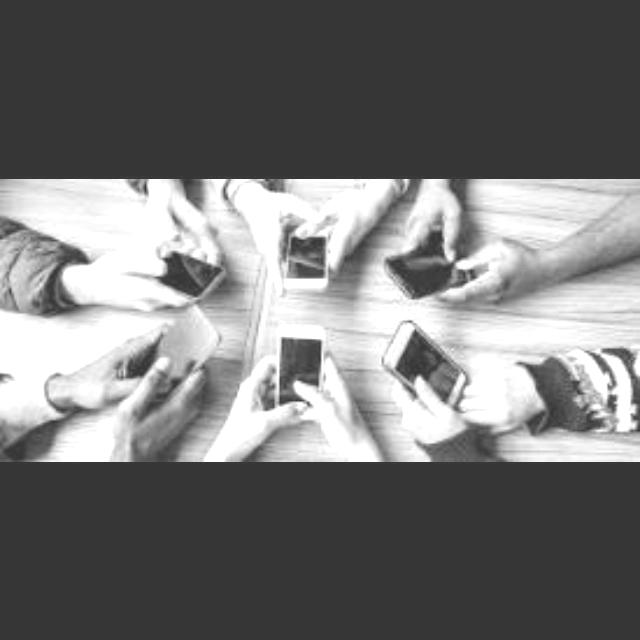fake: (364, 314, 520, 434), (118, 316, 235, 424), (118, 214, 240, 312), (266, 318, 356, 440), (384, 238, 512, 316), (268, 229, 340, 306)
